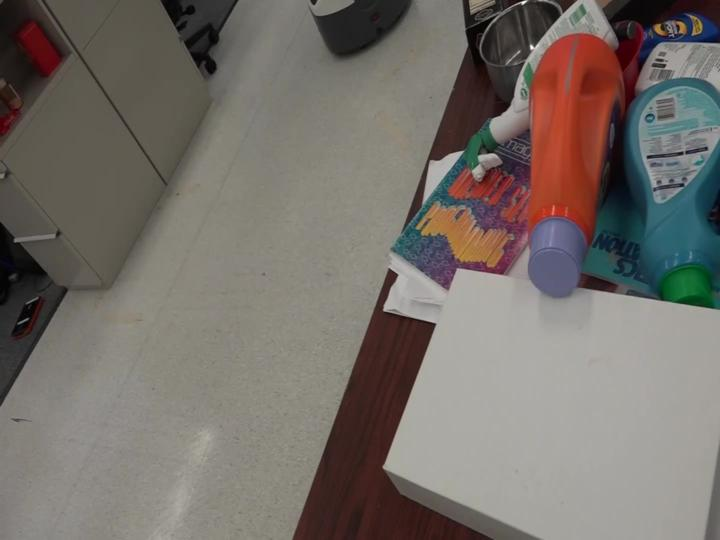downy: (615, 69, 719, 309)
